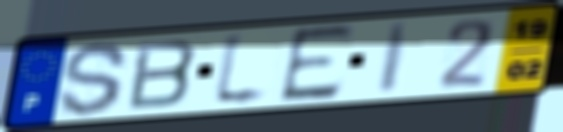2: (434, 17, 496, 90)
B: (124, 38, 201, 113)
E: (276, 21, 359, 106)
I: (375, 20, 415, 95)
L: (209, 29, 273, 110)
S: (56, 39, 133, 118)
